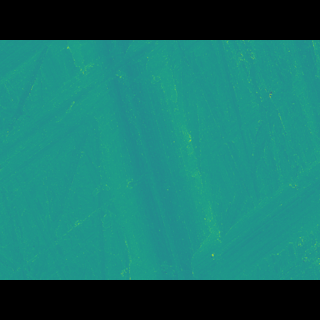Loch: (0, 68, 174, 179), (195, 155, 320, 251)
